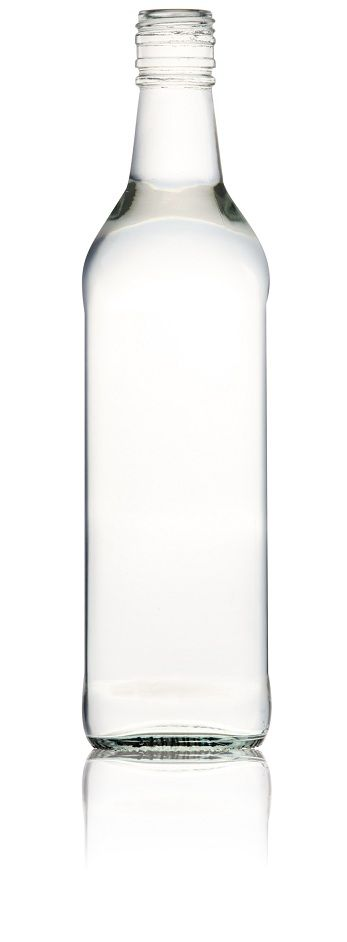glass_bottle: (58, 3, 287, 765)
